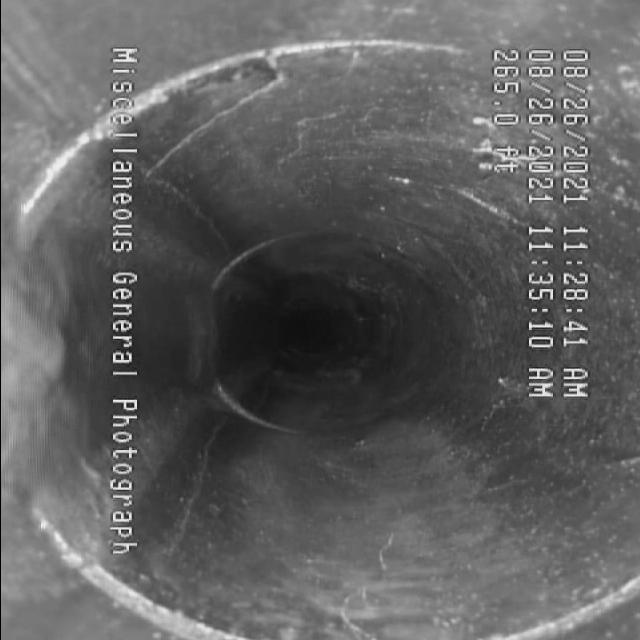Crack: (174, 54, 306, 167)
